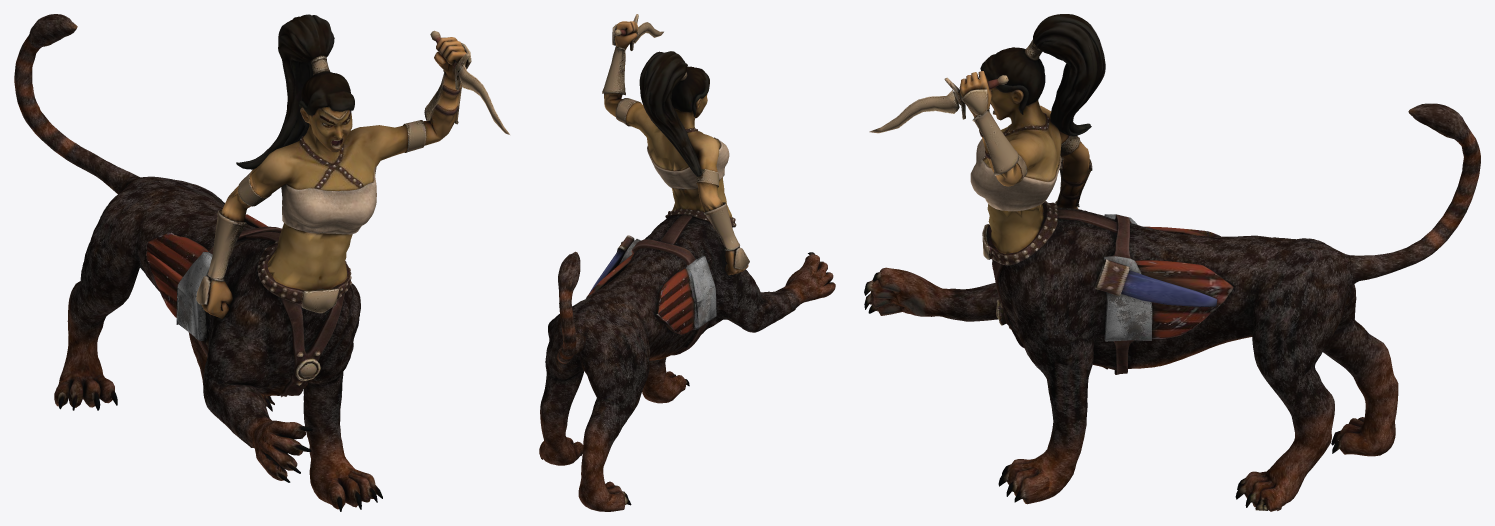
The model's file is MZ4250 - Lamia Female.glb.
The picture shows the model from 3 angles, left to right: view 1: azimuth 30°, elevation 25°; view 2: azimuth 150°, elevation 25°; view 3: azimuth 270°, elevation 25°; orthographic projection. The views are drawn at different scales.
Parts seen in each view (by area): view 1: Dagger.001; view 2: Dagger.001; view 3: Dagger.001.
Boxes of the visible parts, x1,y1,x2,y2 form: Dagger.001: (14, 14, 509, 511); Dagger.001: (539, 14, 835, 511); Dagger.001: (864, 14, 1480, 511).
Size of the model in its own units: 0.7478 by 1.37 by 1.64.
Materials: 1 (1 with a texture image).
